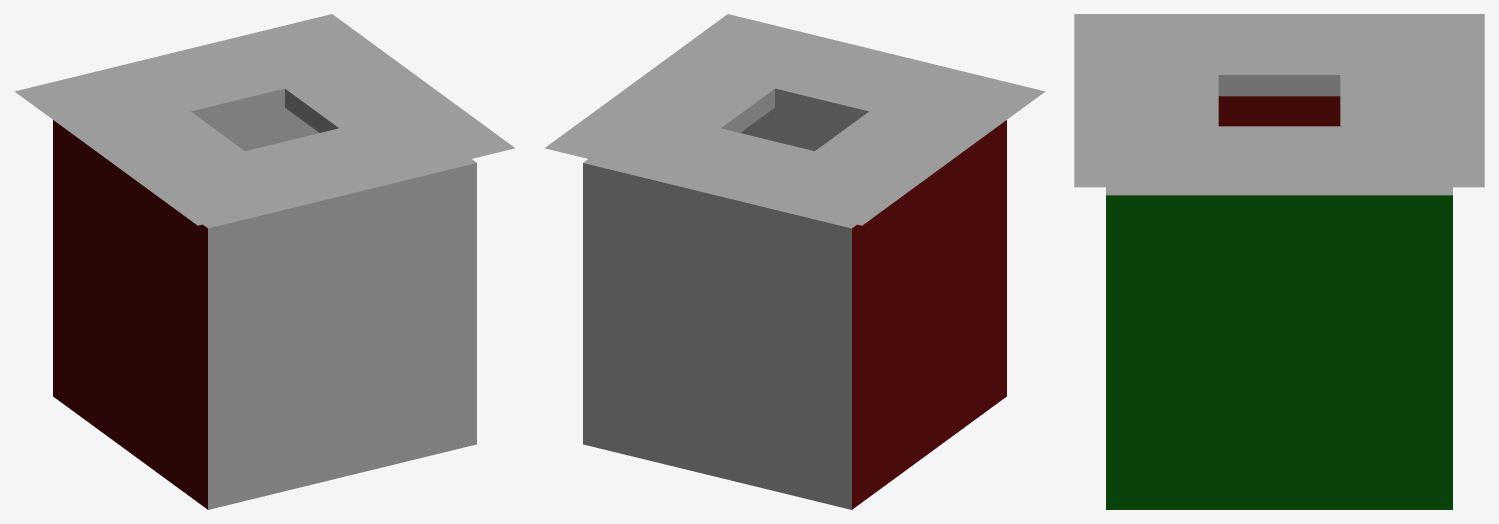
Rendered from Cornell_Box.fbx.
The picture shows the model from 3 angles, left to right: view 1: azimuth 30°, elevation 25°; view 2: azimuth 150°, elevation 25°; view 3: azimuth 270°, elevation 25°; orthographic projection. The views are drawn at different scales.
Visible parts, largest first — view 1: Cornell_Box; view 2: Cornell_Box; view 3: Cornell_Box.
Boxes of the visible parts, x1,y1,x2,y2 form: Cornell_Box: (15,14,514,509); Cornell_Box: (545,14,1044,509); Cornell_Box: (1074,14,1484,509).
Bounding box in the file's own units: 236 × 214 × 236.
